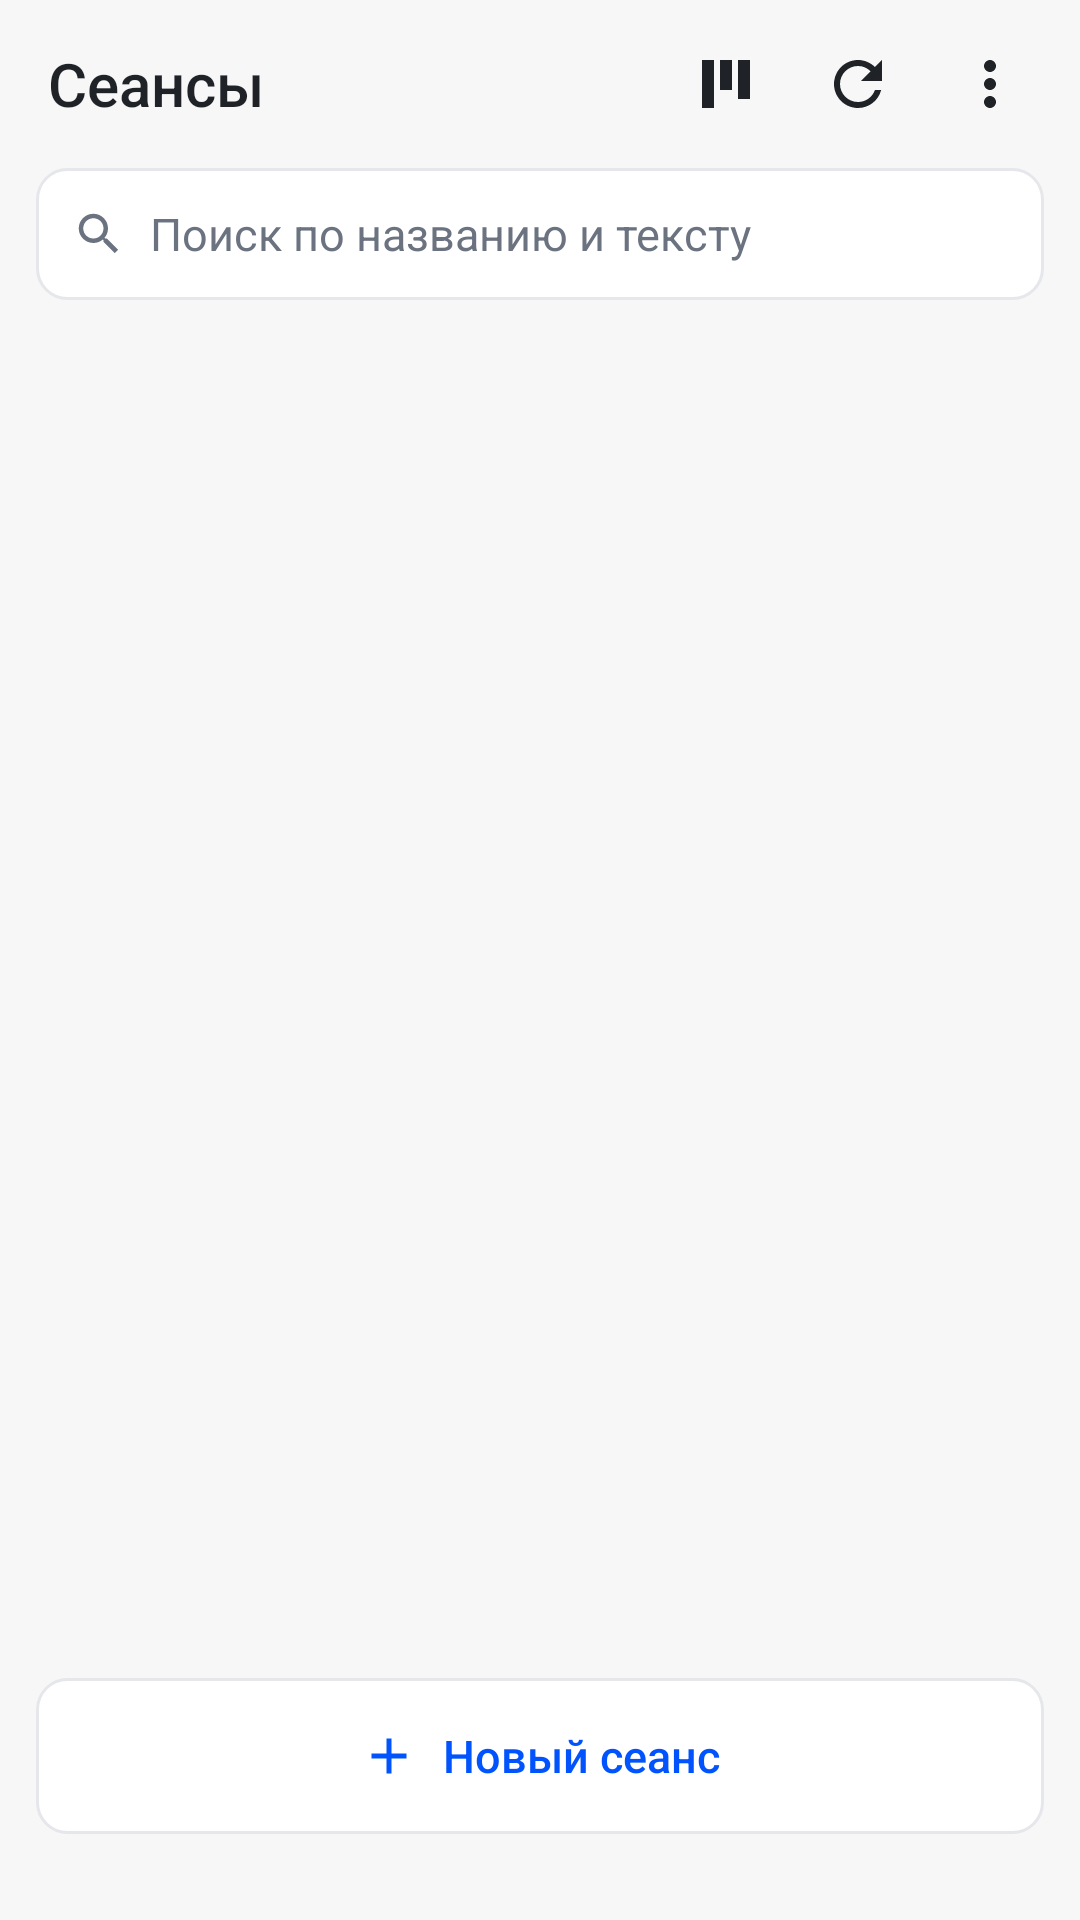

Icons on this 1080px×1920px Android screen, each with its box as (x1, y1, x2, y2):
plus: (371, 1738, 407, 1774)
search: (78, 213, 118, 253)
Доска: (702, 60, 750, 108)
Обновить: (834, 60, 882, 108)
